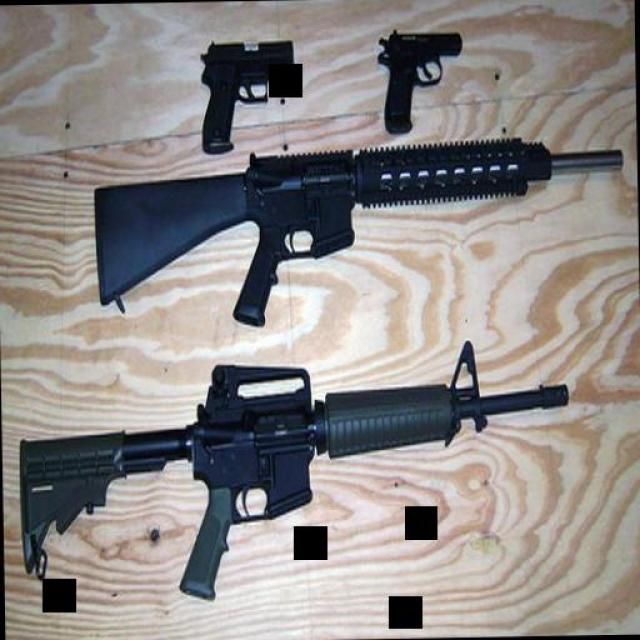gun: (192, 37, 300, 152), (379, 22, 465, 136)
